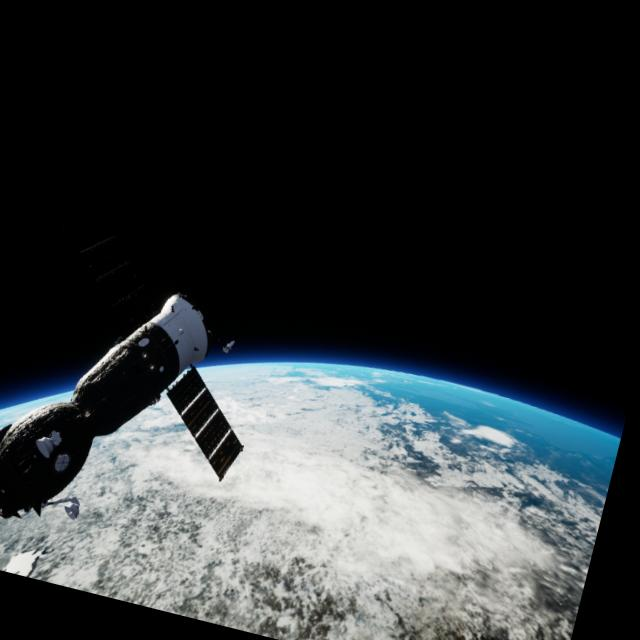Satellites revolving around earth: (0, 266, 623, 640), (0, 249, 277, 576)
